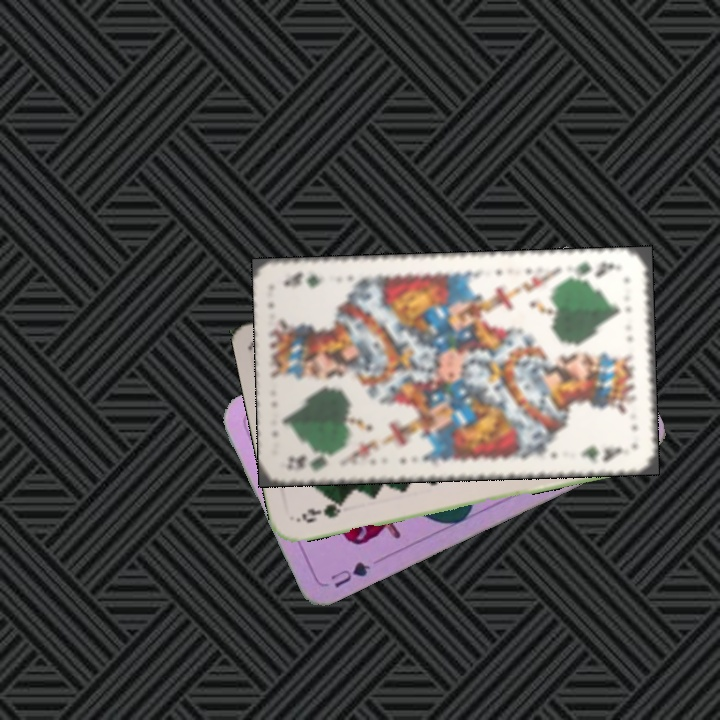G9: (294, 497, 348, 526)
GK: (283, 449, 342, 474), (567, 257, 625, 282)
GU: (326, 557, 374, 591)
